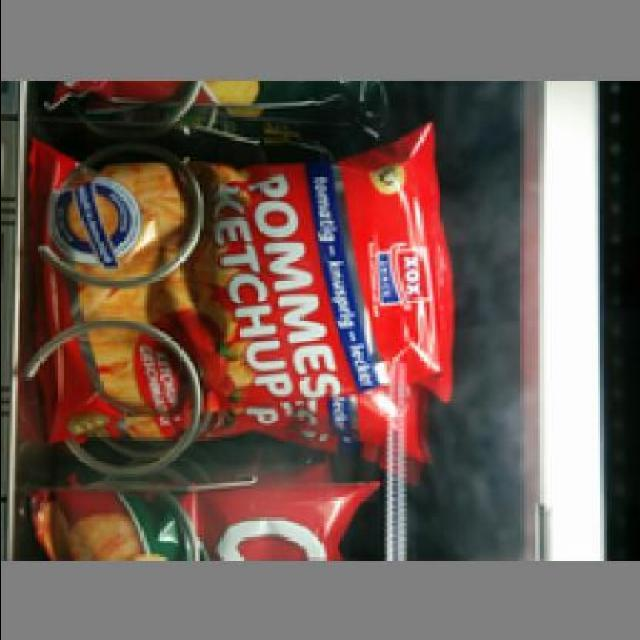Chips: (46, 134, 449, 440)
